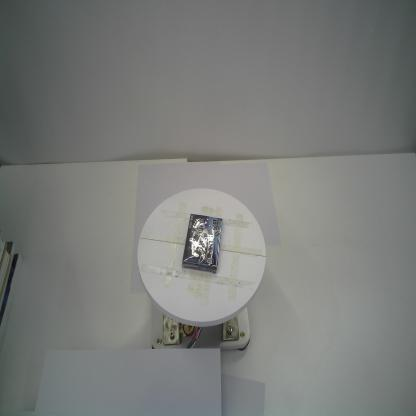Gum: (182, 213, 224, 275)
